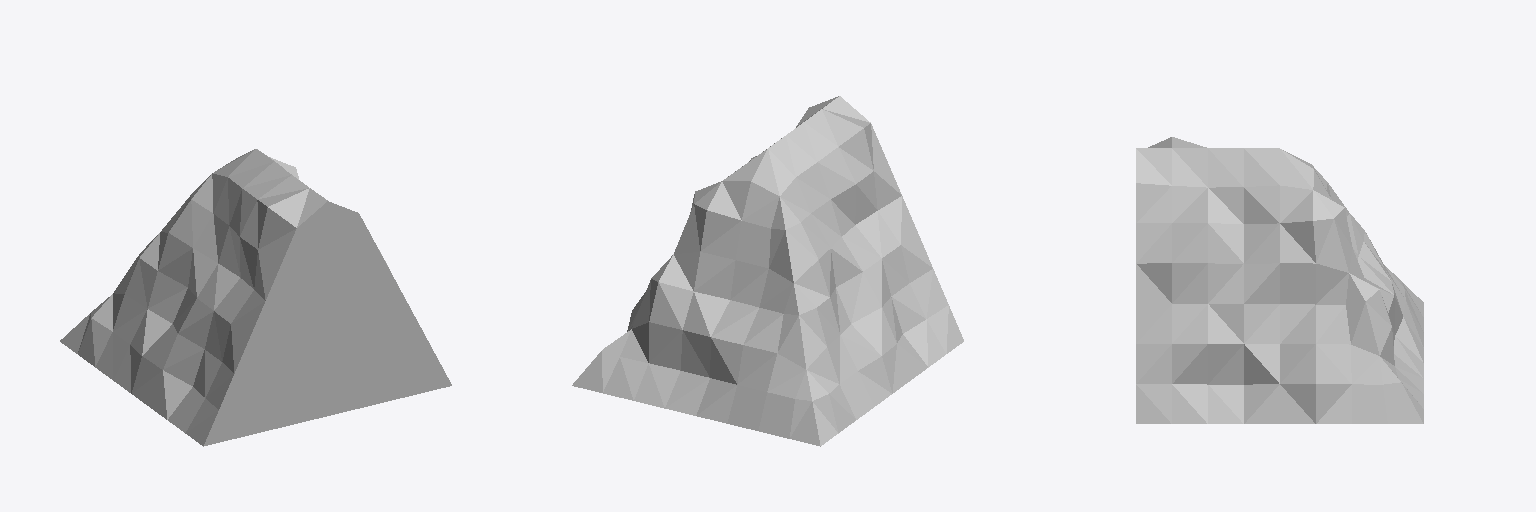
File: ending_wall.obj
The picture shows the model from 3 angles: view 1: azimuth 30°, elevation 25°; view 2: azimuth 150°, elevation 25°; view 3: azimuth 270°, elevation 25°; orthographic projection.
Parts seen in each view (by area): view 1: Cube.007_Cube.013; view 2: Cube.007_Cube.013; view 3: Cube.007_Cube.013.
Boxes of the visible parts, x1=… form: Cube.007_Cube.013: x1=60, y1=149, x2=451, y2=446; Cube.007_Cube.013: x1=572, y1=96, x2=963, y2=446; Cube.007_Cube.013: x1=1136, y1=137, x2=1423, y2=423.
Bounding box in the file's own units: 1 × 0.825 × 1.